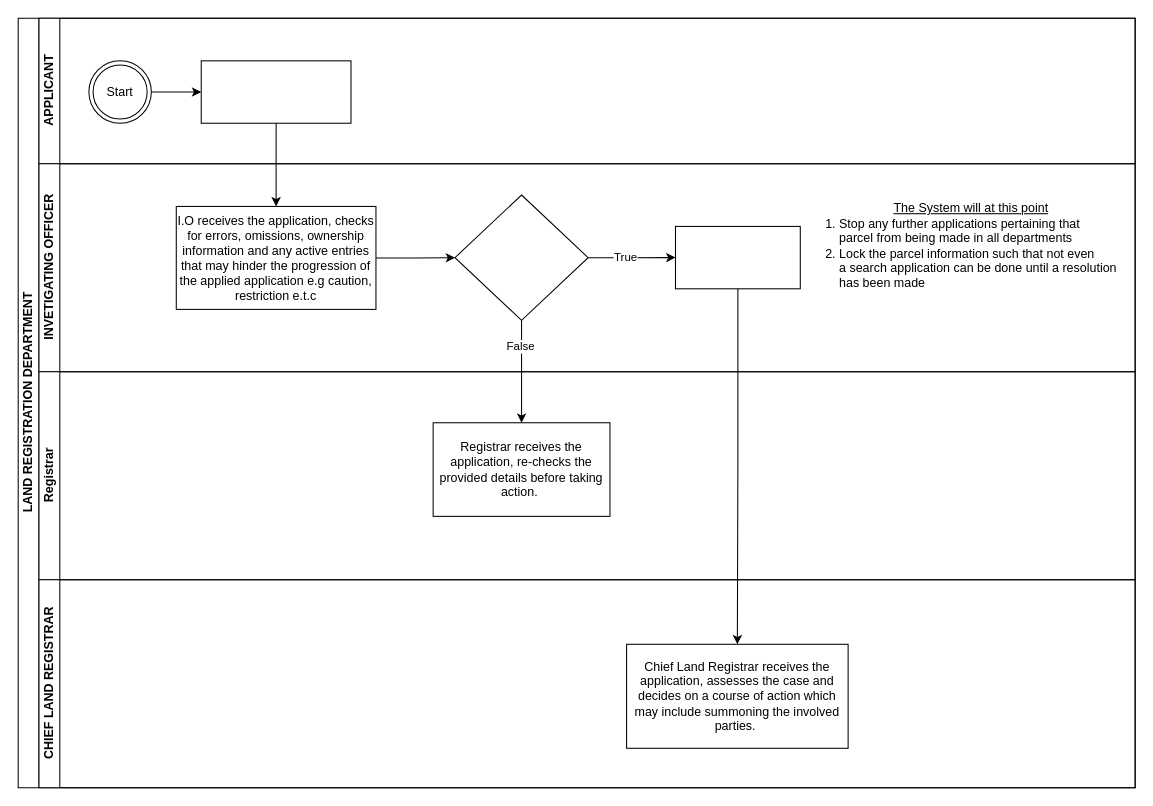
Some shapes in this 1153 by 806 pixel diagram are drawn without their labels. Each missing label, with the centre of its shape:
"Applicant(s) make their various applications and submits to the ministry" belongs at point 275,91.
"Application has issues & requires flagging" belongs at point 521,257.
"I.O flags the application with reasons & forwards to CLR" belongs at point 737,257.
